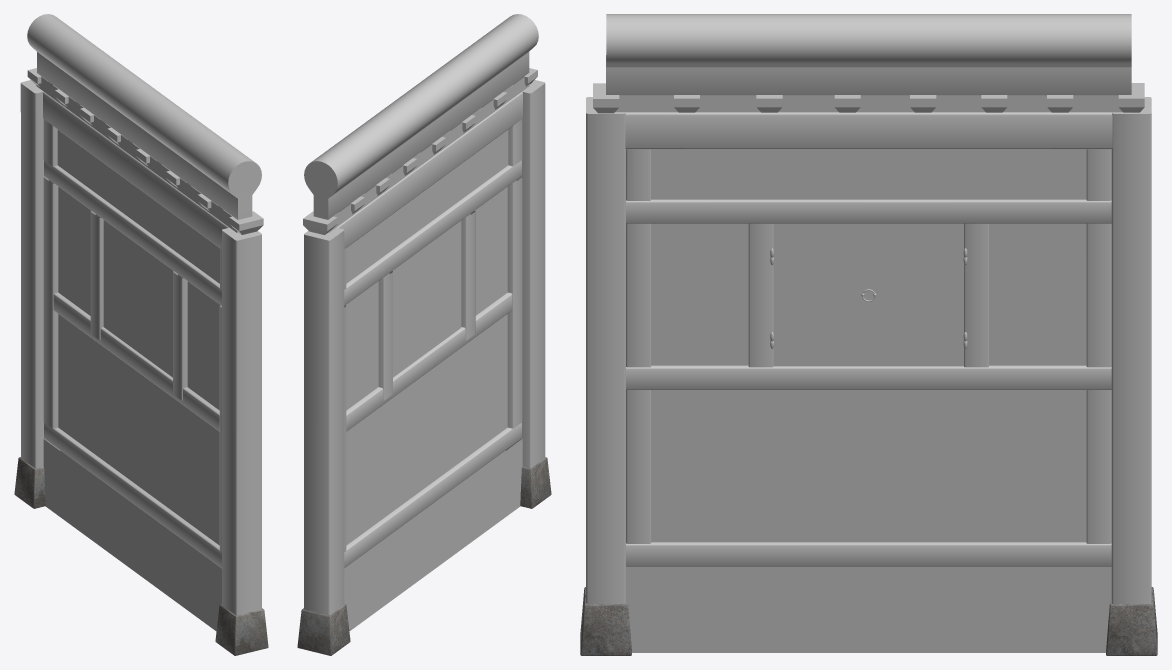
Rendered from SM_Building_Wall_26.FBX.
The picture shows the model from 3 angles, left to right: view 1: azimuth 30°, elevation 25°; view 2: azimuth 150°, elevation 25°; view 3: azimuth 270°, elevation 25°; orthographic projection. The views are drawn at different scales.
Parts seen in each view (by area): view 1: SM_Building_Wall_26; view 2: SM_Building_Wall_26; view 3: SM_Building_Wall_26.
Part boxes in pixels (x1,y1,x2,y2): SM_Building_Wall_26: [14, 14, 268, 655]; SM_Building_Wall_26: [297, 14, 551, 655]; SM_Building_Wall_26: [580, 14, 1157, 655].
Size of the model in its own units: 54.77 by 681 by 564.
